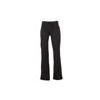pantaloni: (40, 22, 62, 79)
